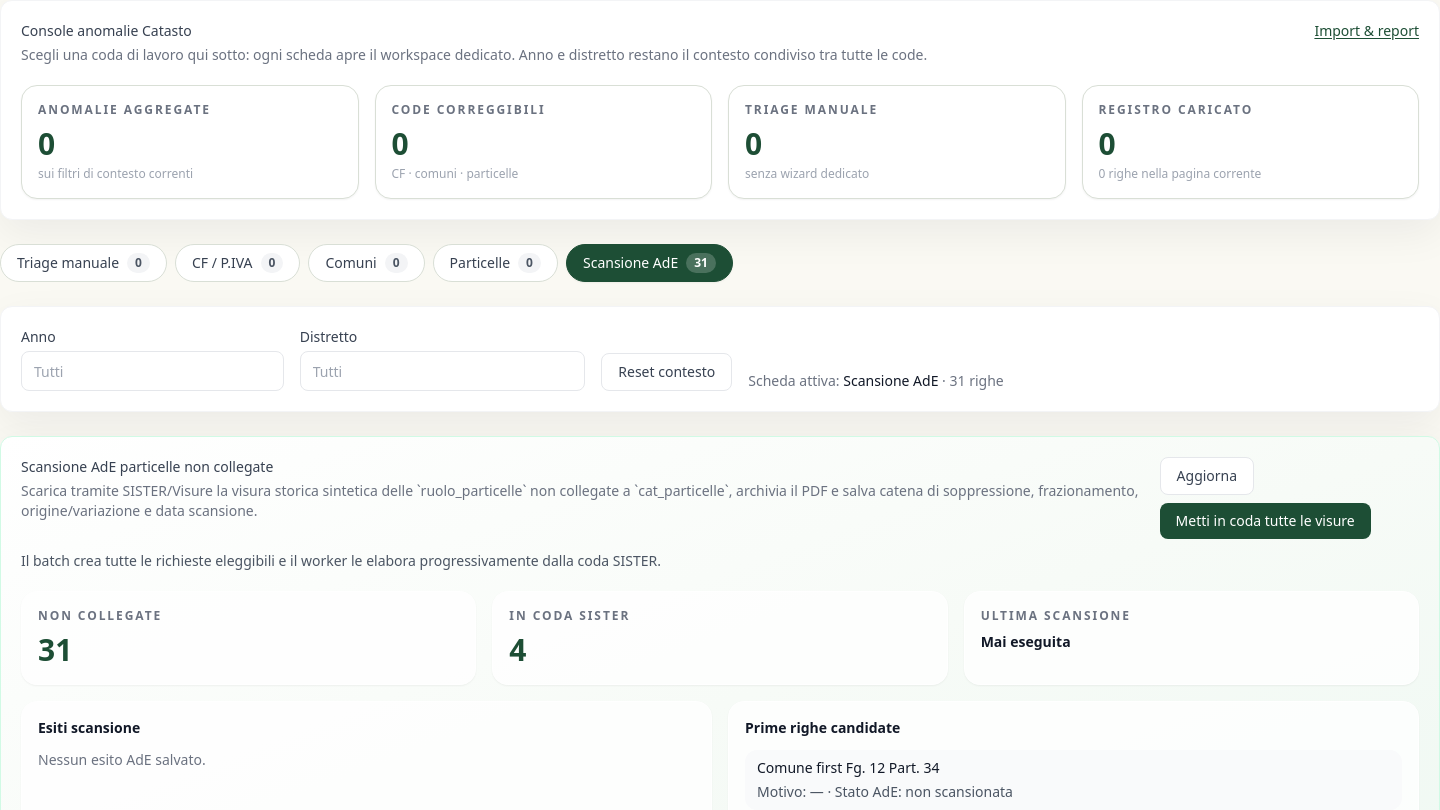
Test: R30 original AdE command, failures and asynchronous lifecycle › command rejection {} uses original error fallback without refresh
expect the button "Aggiorna" is enabled: met, box [1160, 457, 1254, 495]
expect the button "Reset contesto" is enabled: met, box [601, 353, 732, 391]
Click the button "Metti in coda tutte le visure": (1265, 521) [1160, 503, 1371, 539]
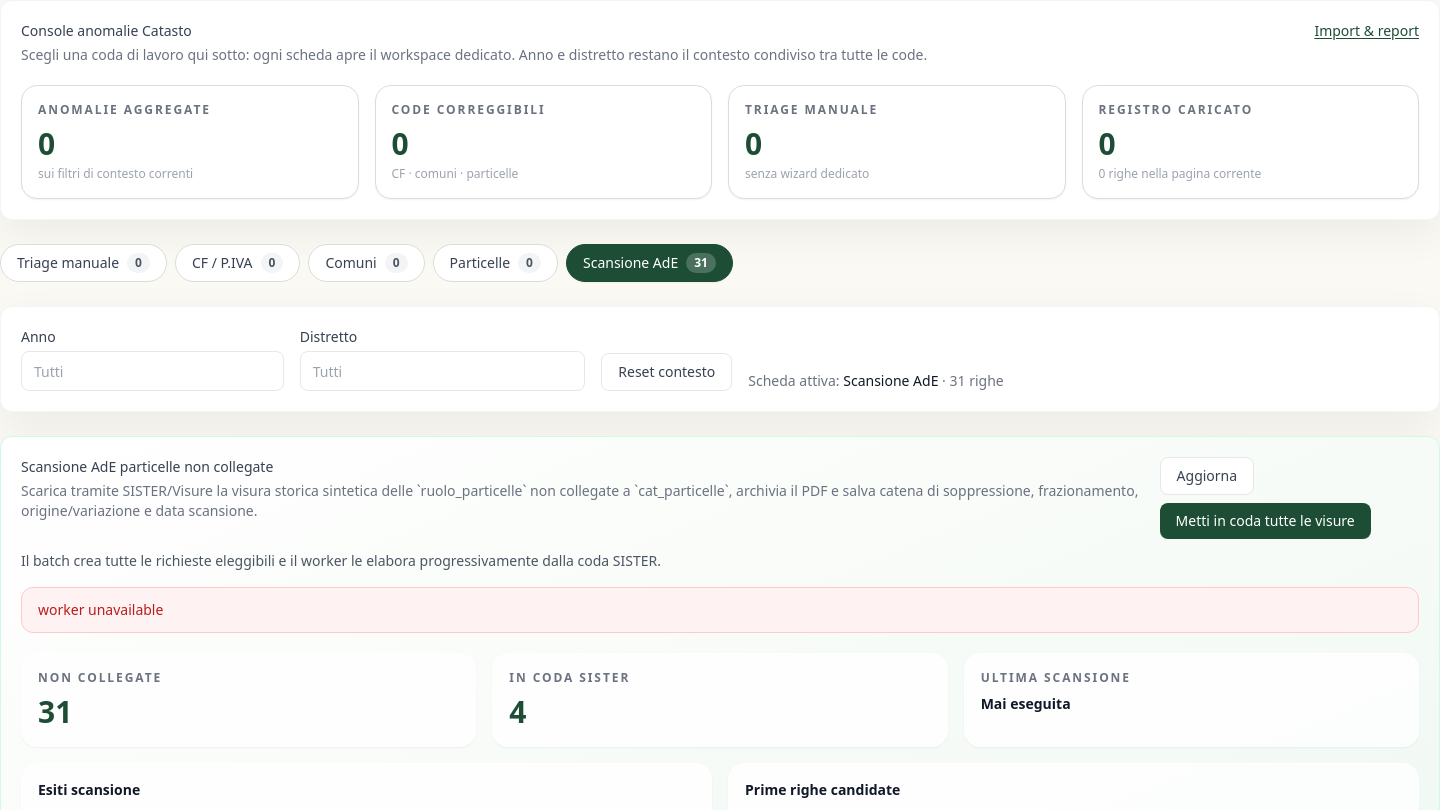
expect the text "worker unavailable" is shown: met, box [21, 587, 1419, 633]
